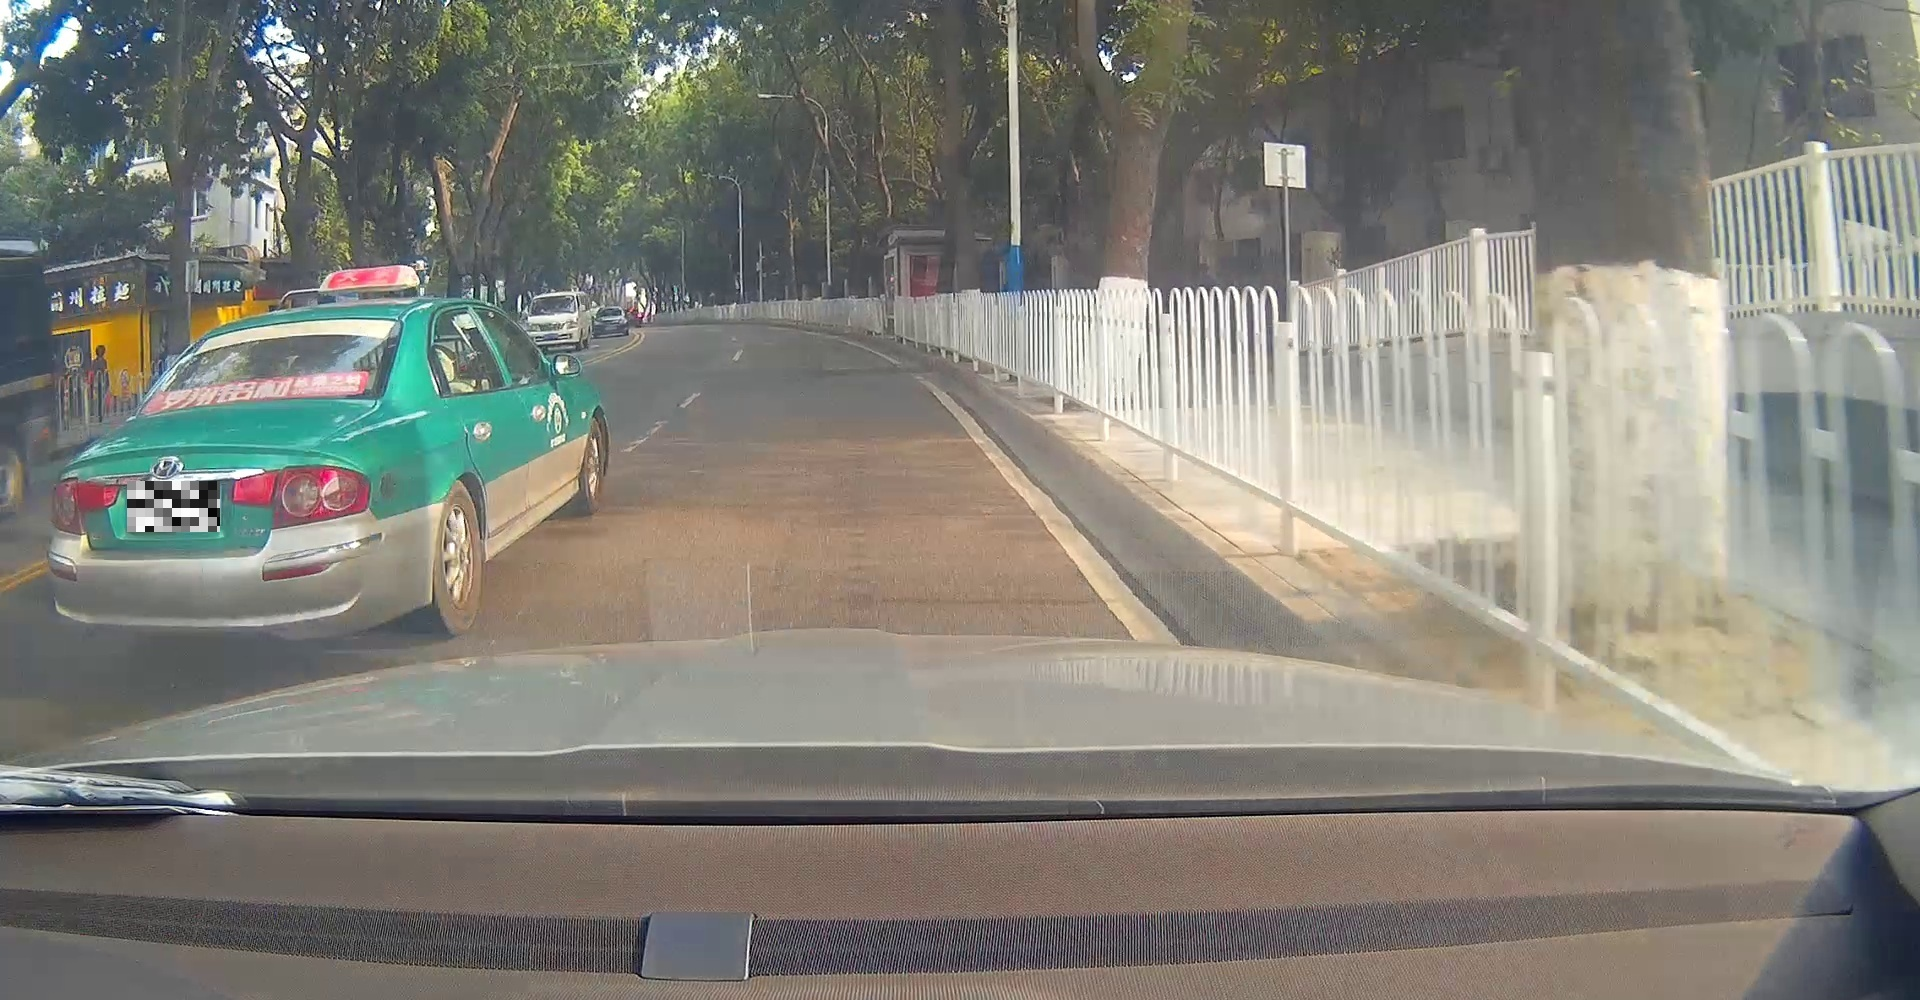L_light: (50, 476, 121, 537)
R_light: (231, 464, 370, 530)
T_light: (270, 327, 307, 332)
day-no: (44, 297, 417, 646)
plate_1: (127, 481, 220, 532)
